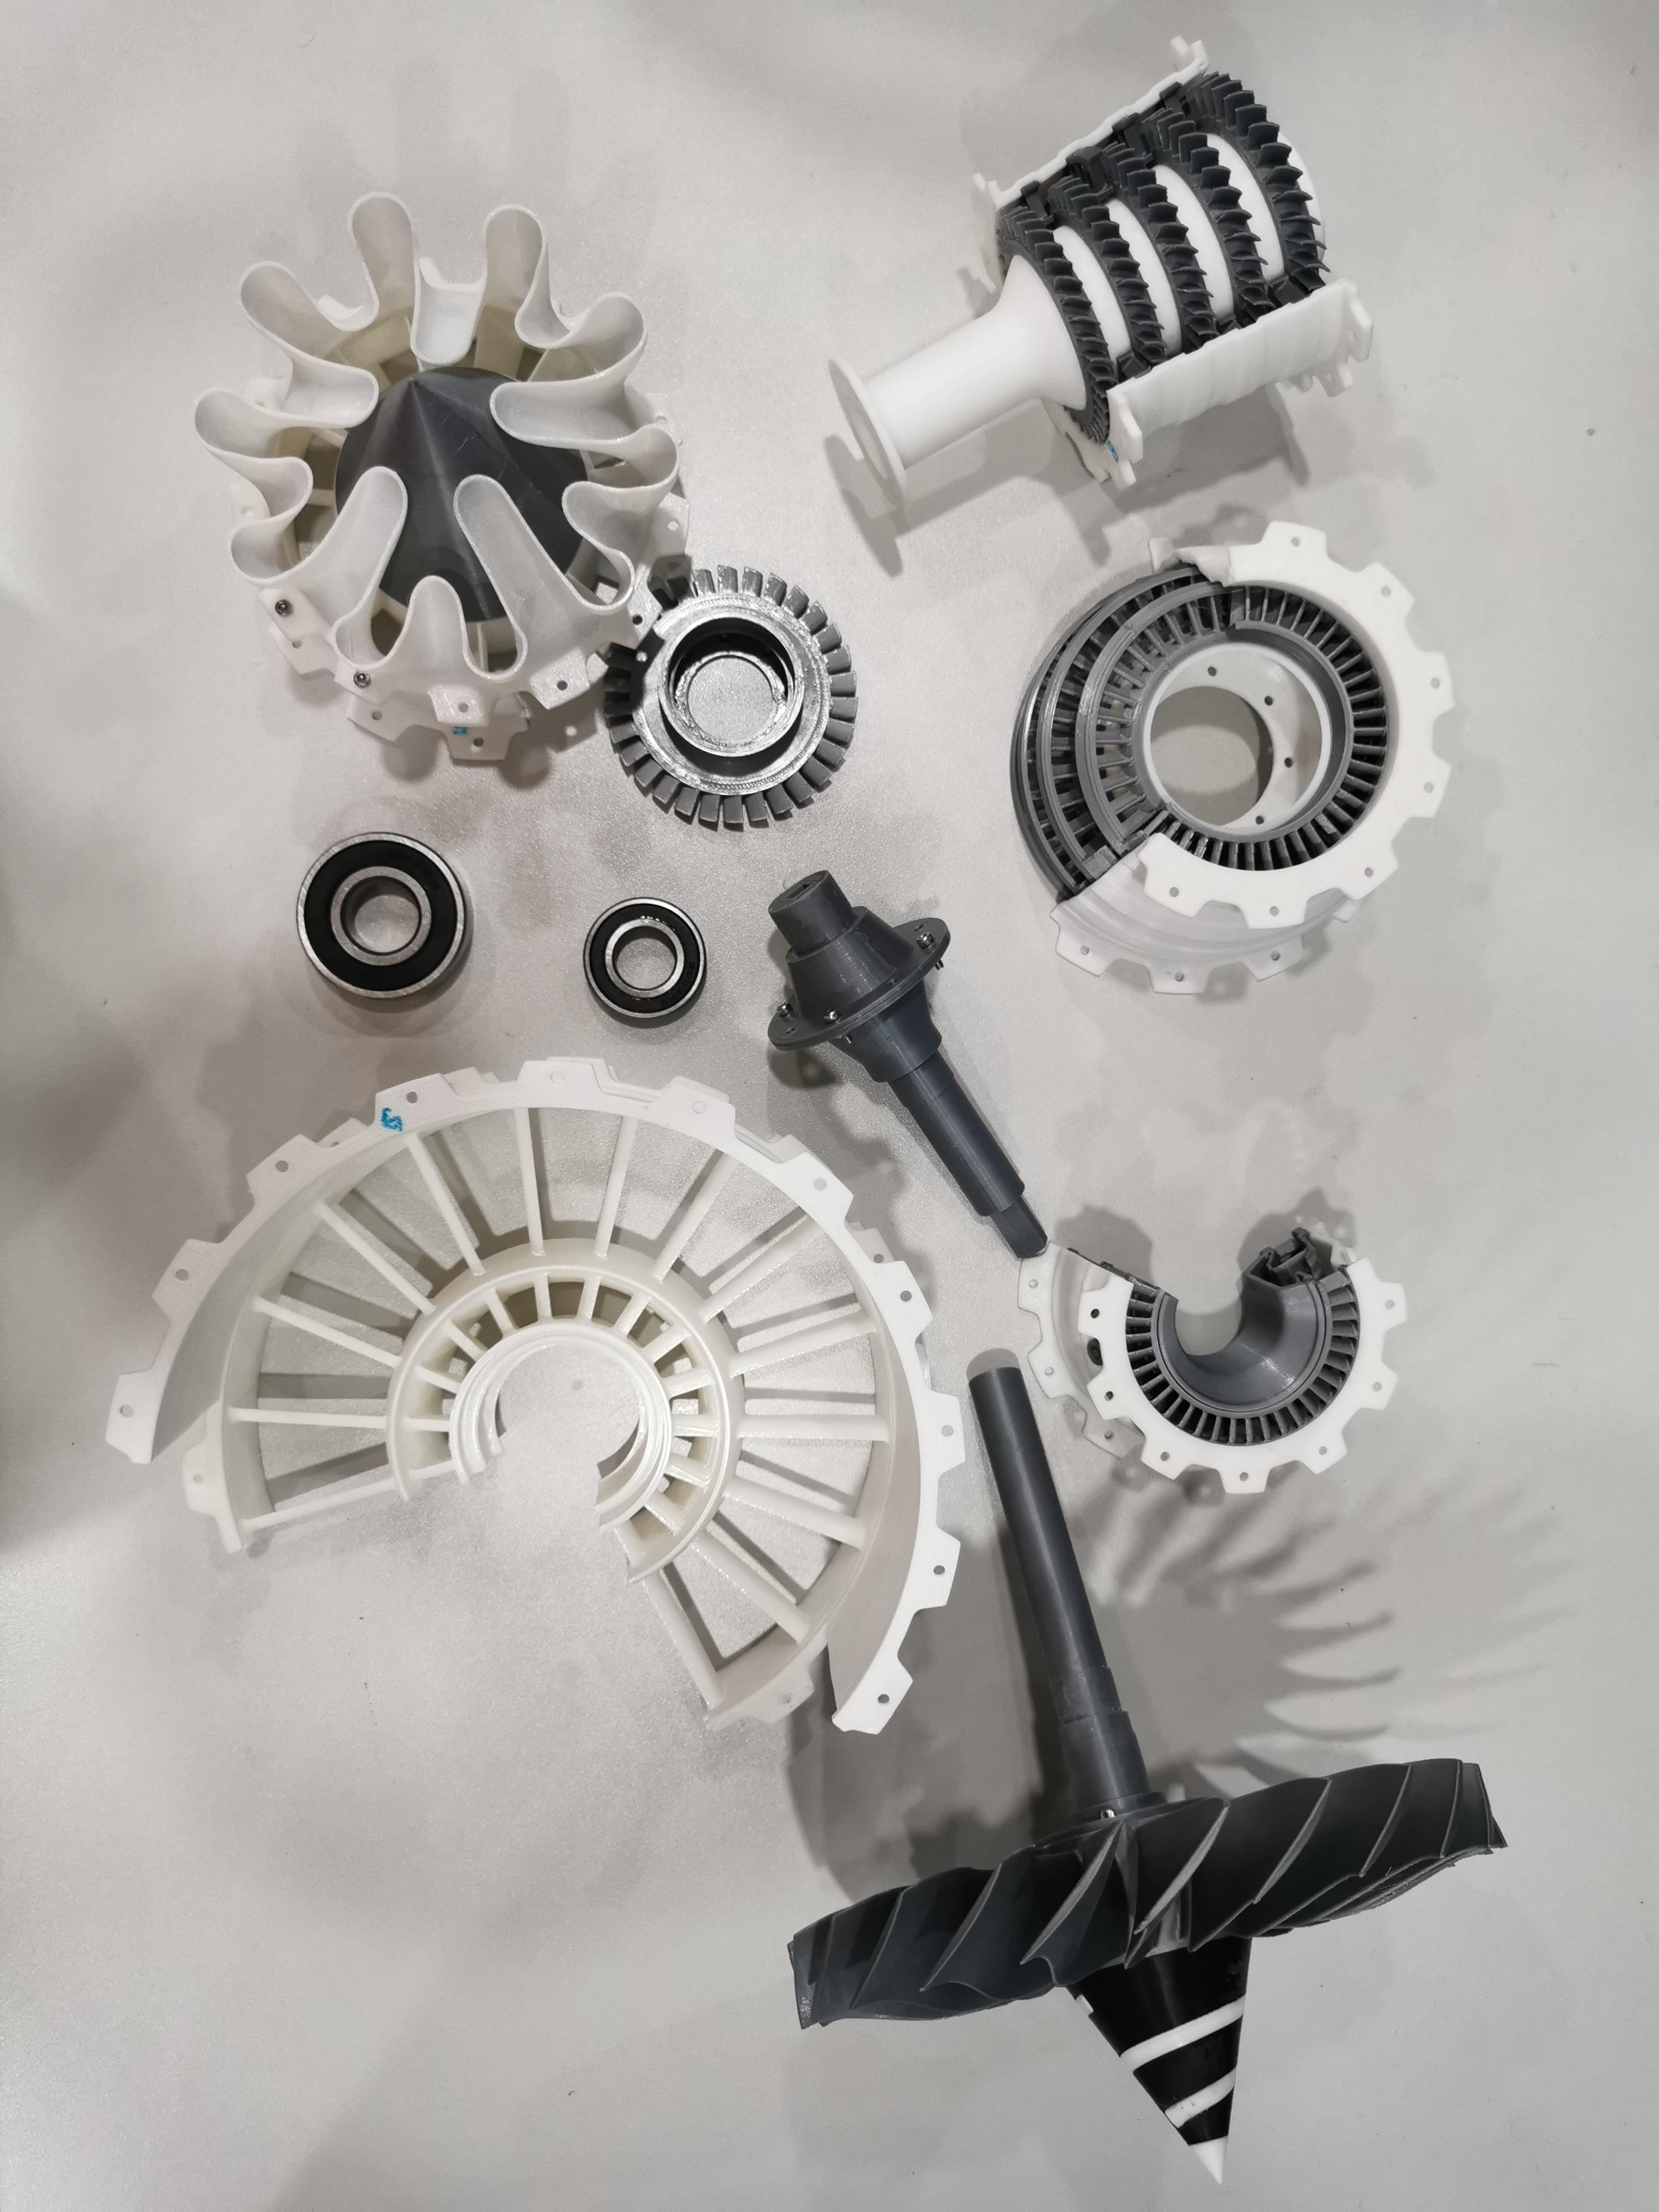Bearing-6003: (565, 885, 714, 1038)
Bearing-6204: (275, 815, 481, 1021)
Combustion Section: (1018, 1204, 1438, 1503)
Fan Casing and Support: (96, 1052, 981, 1750)
Fan and Low Pressure Shaft: (765, 1364, 1509, 2193)
HPT Section: (591, 554, 864, 840)
High Pressure Spool: (819, 23, 1391, 521)
LPT Section: (976, 519, 1483, 1001)
Low Pressure Spool: (746, 853, 1054, 1266)
Nozzle Section: (185, 181, 701, 772)
